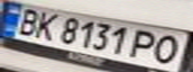1: (109, 24, 133, 56), (72, 18, 96, 50)
3: (90, 20, 112, 53)
8: (54, 15, 81, 46)
B: (9, 4, 45, 36)
K: (27, 8, 63, 41)
O: (145, 33, 190, 65)
P: (127, 28, 163, 61)
